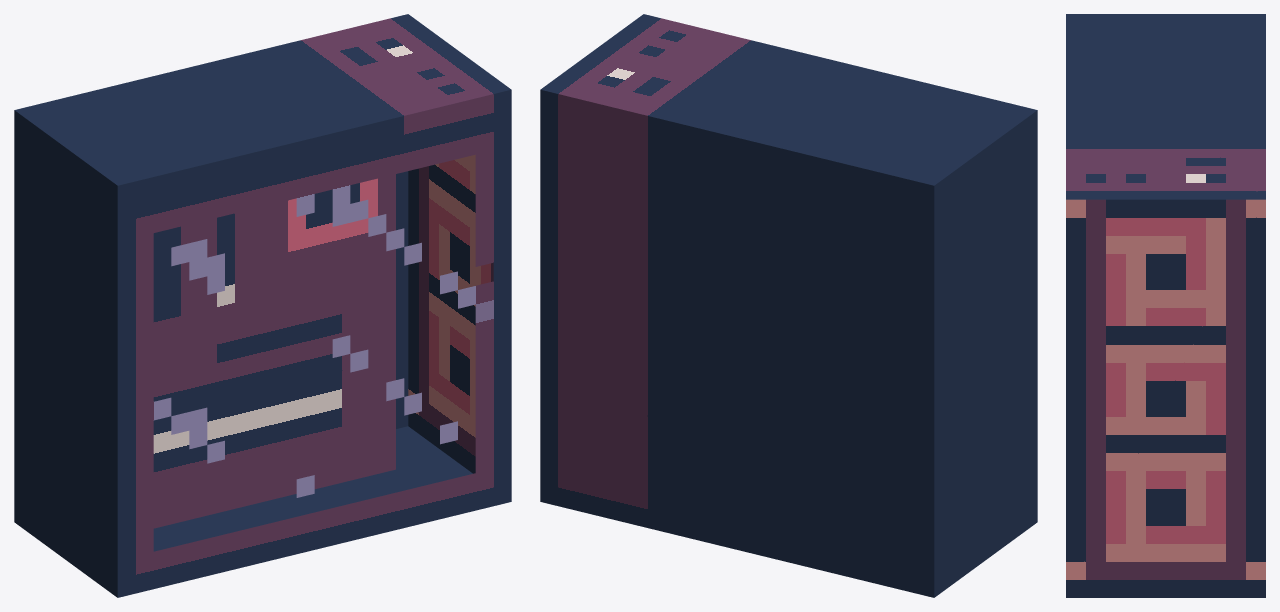
3 renders of one model, left to right at view 1: azimuth 30°, elevation 25°; view 2: azimuth 150°, elevation 25°; view 3: azimuth 270°, elevation 25°, orthographic. The views are drawn at different scales.
Parts seen in each view (by area): view 1: cuboid; view 2: cuboid; view 3: cuboid.
Part boxes in pixels (box(x1,y1,x2,y2)): cuboid: box(14, 14, 511, 597); cuboid: box(540, 14, 1037, 597); cuboid: box(1066, 14, 1265, 597).
Size of the model in its own units: 0.6875 by 0.6875 by 0.3125.
1 material, 1 textured.
